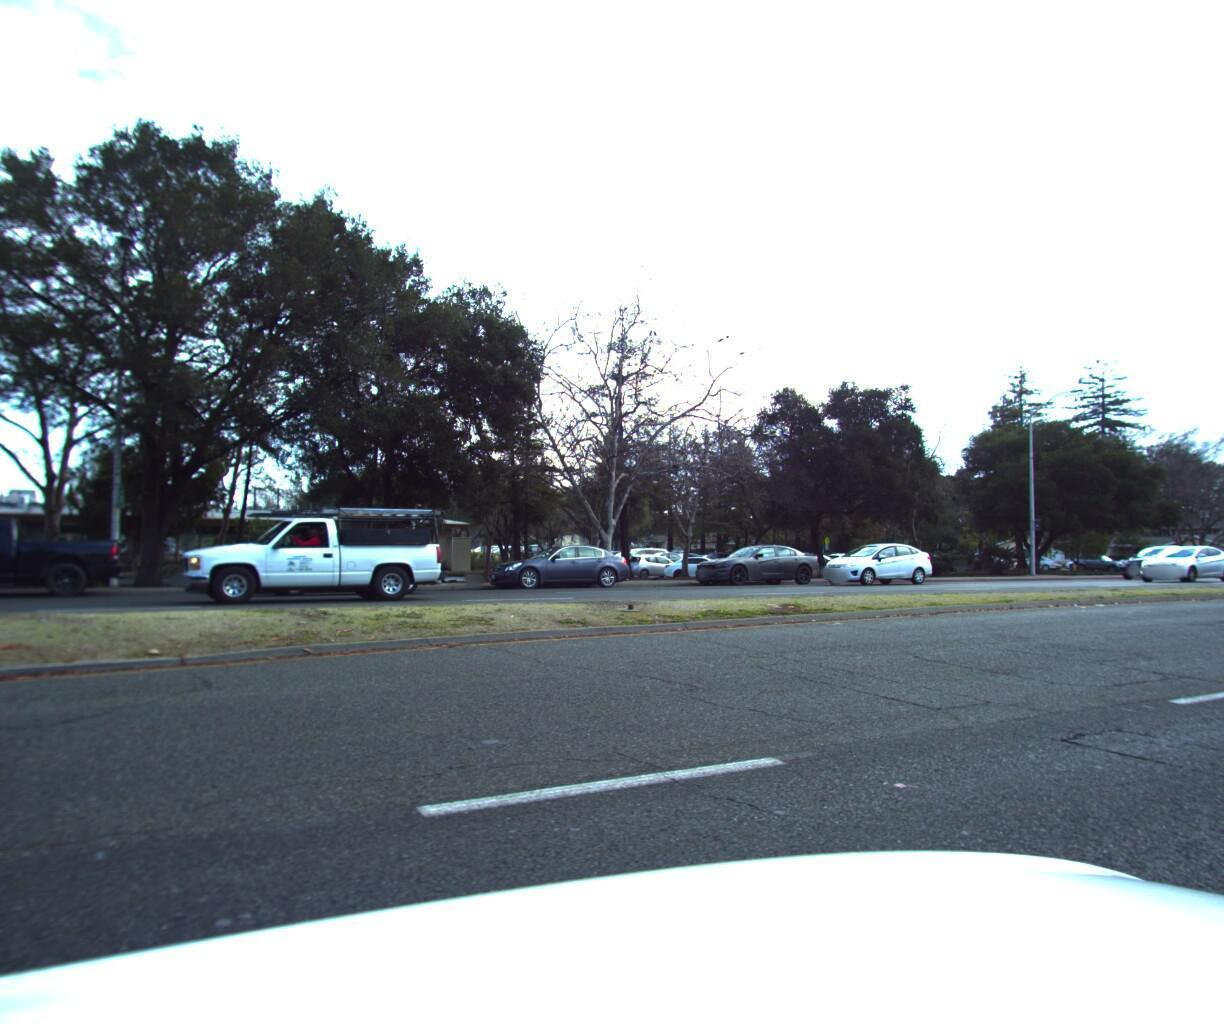car: (162, 511, 421, 608), (481, 538, 638, 587), (688, 537, 828, 584), (811, 537, 940, 584), (1128, 536, 1224, 575), (1101, 543, 1189, 578)
